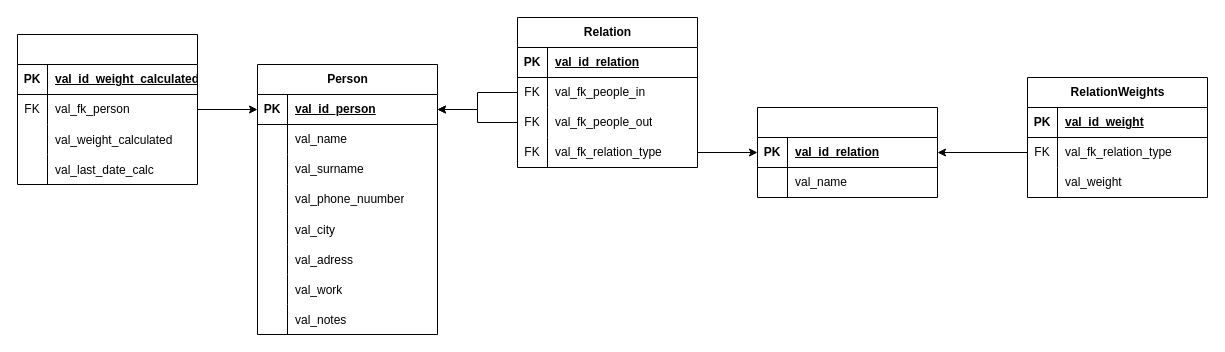
This 1225x352 diagram has some shape labels left out. Here are the shapes that lost their labels. From the top down, the box of each, then its label:
(16, 34, 198, 184): PersonWeigth
(756, 106, 938, 198): RelationType
